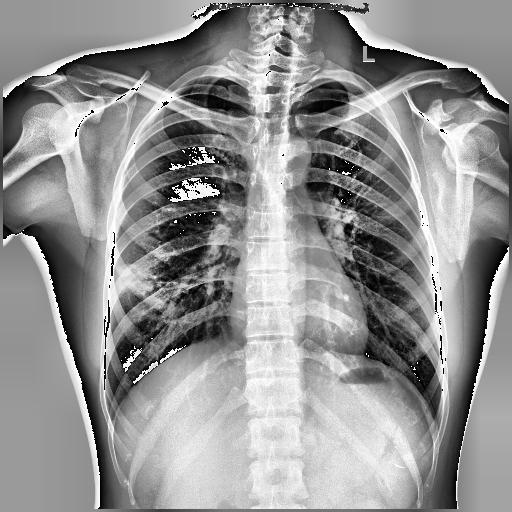13- Pulmonary fibrosis: (116, 265, 158, 296), (118, 265, 158, 293), (122, 264, 148, 286)
6- Infiltration: (116, 265, 158, 296)
